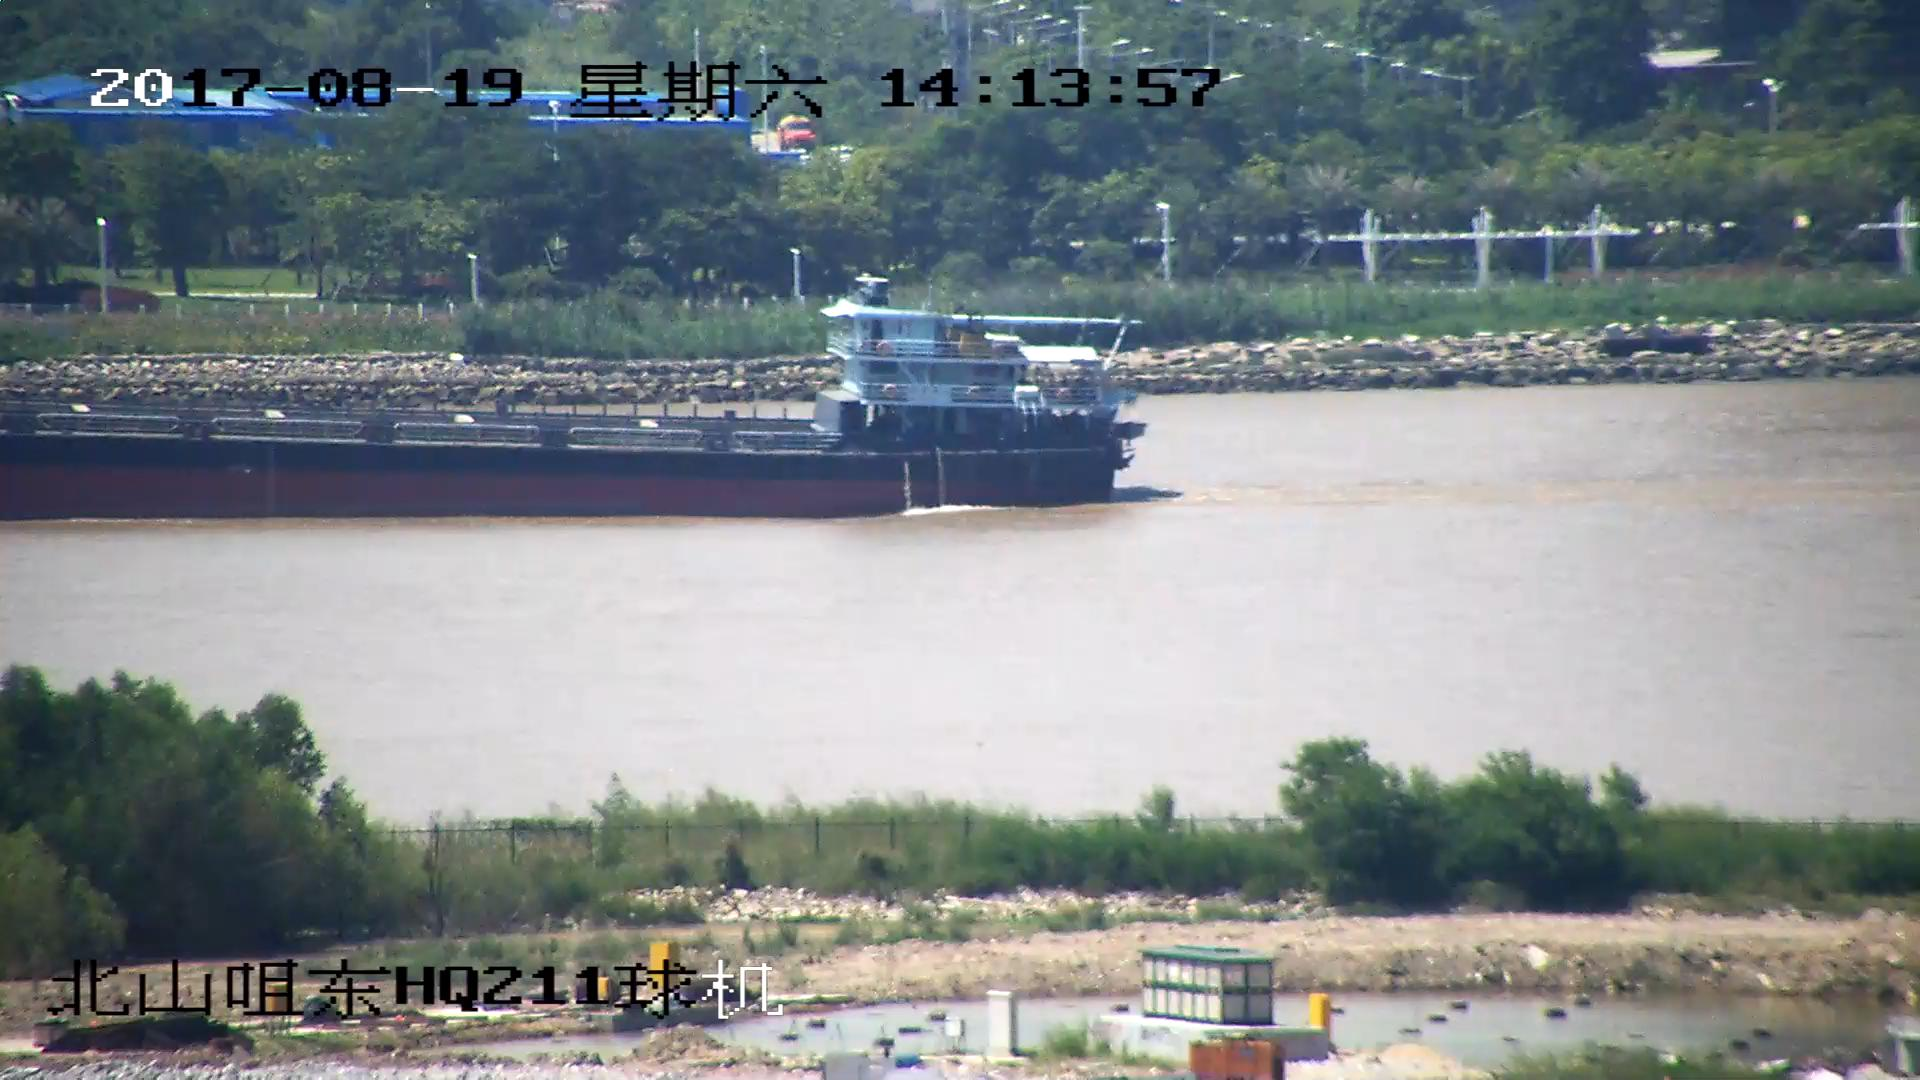bulk cargo carrier: (1, 288, 1137, 519)
